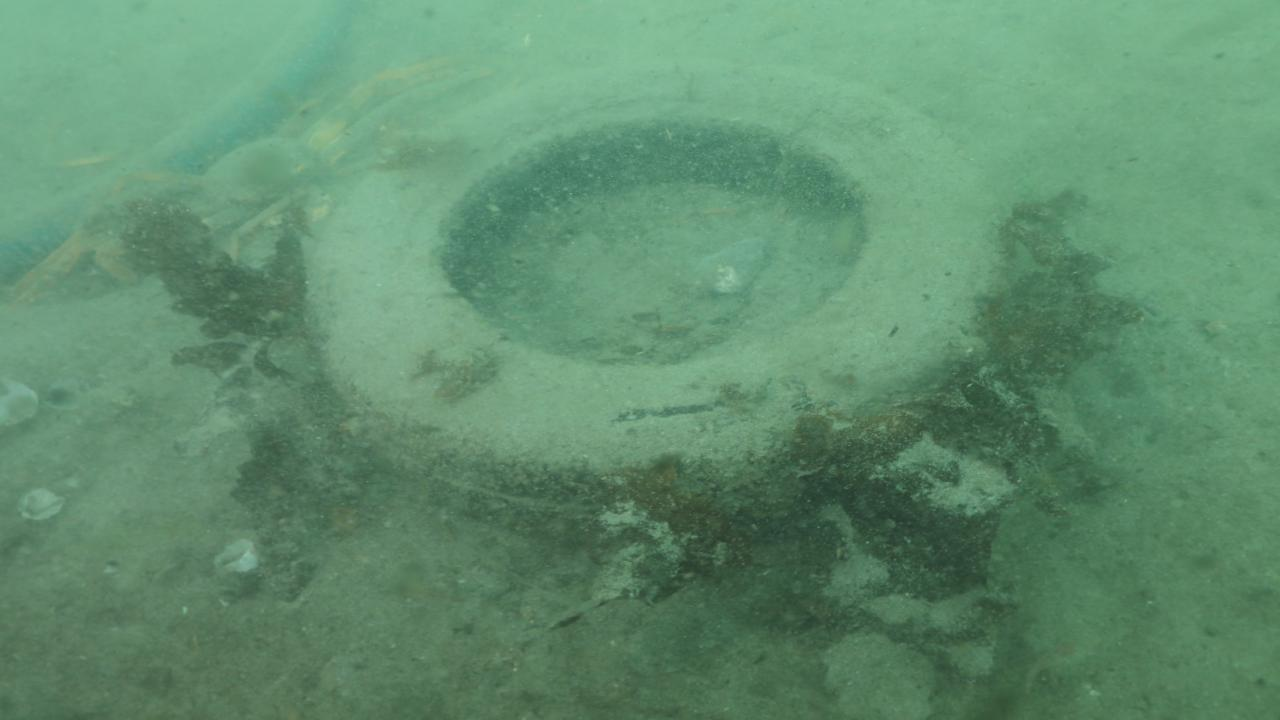tire: (304, 57, 1001, 539)
